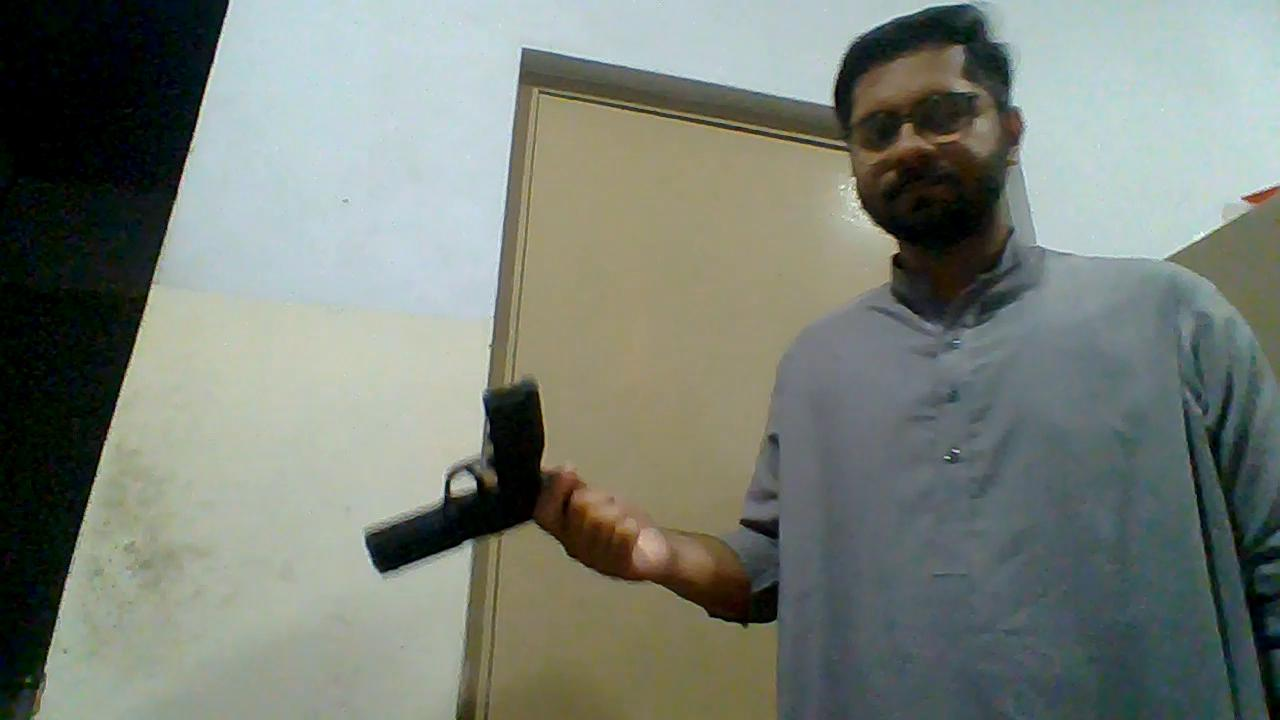criminal: (363, 3, 1280, 720)
weapon: (363, 376, 550, 578)
